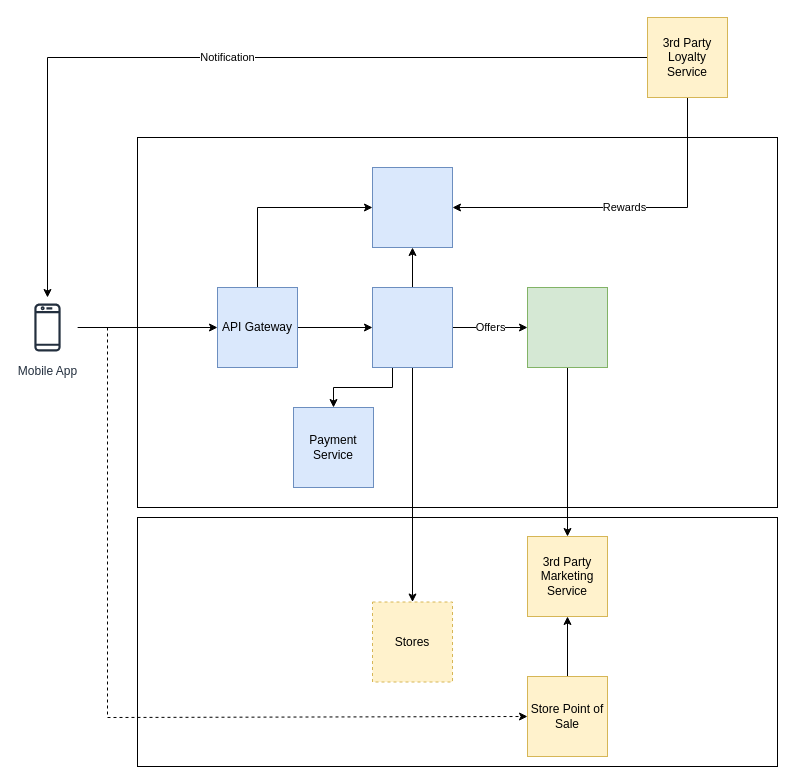
Image size: 795x784. Some labels were removed from this diagram. The centre of each missing label's shape, as x and y in pixels:
"Customer Service" goes at (x=412, y=207).
"Ordering Service" goes at (x=412, y=327).
"Promotions and Discounts Service" goes at (x=567, y=327).
